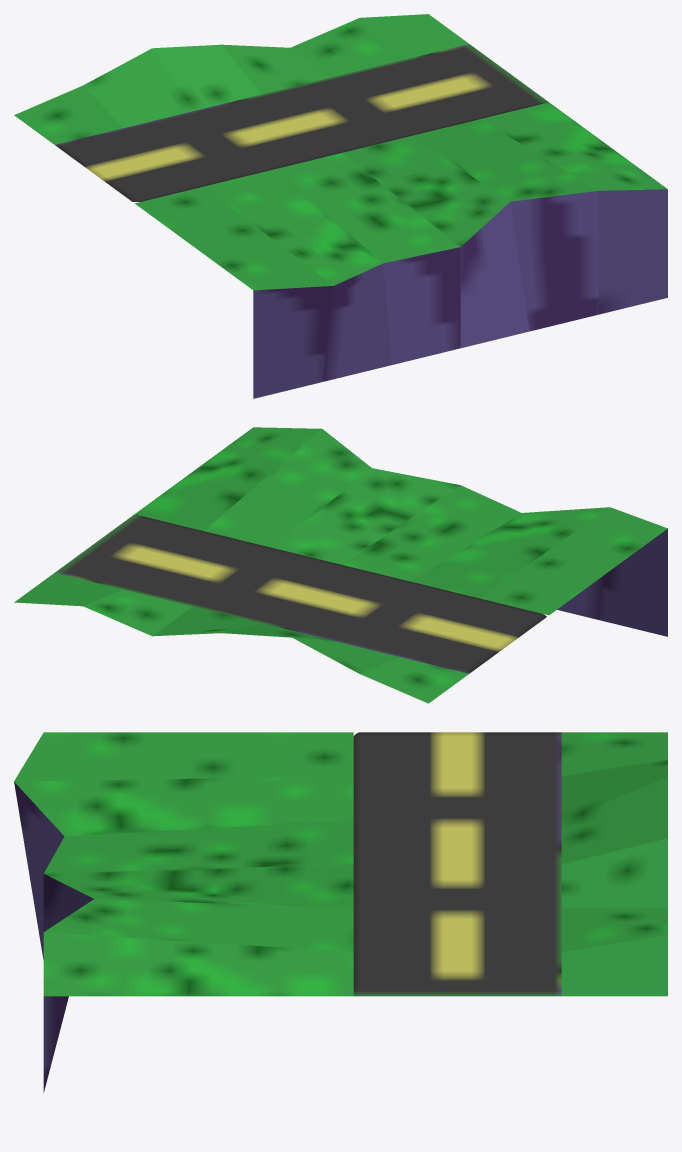
The model's file is Suelo1.fbx.
The picture shows the model from 3 angles, top to bottom: view 1: azimuth 30°, elevation 25°; view 2: azimuth 150°, elevation 25°; view 3: azimuth 270°, elevation 25°; orthographic projection. The views are drawn at different scales.
Visible parts, largest first — view 1: Cube.006; view 2: Cube.006; view 3: Cube.006.
Part boxes in pixels (left/top/right/bottom): Cube.006: left=14, top=14, right=667, bottom=398; Cube.006: left=14, top=427, right=667, bottom=703; Cube.006: left=14, top=732, right=667, bottom=1092.
Size of the model in its own units: 8000 by 8381 by 2613.
1 material, 1 textured.
